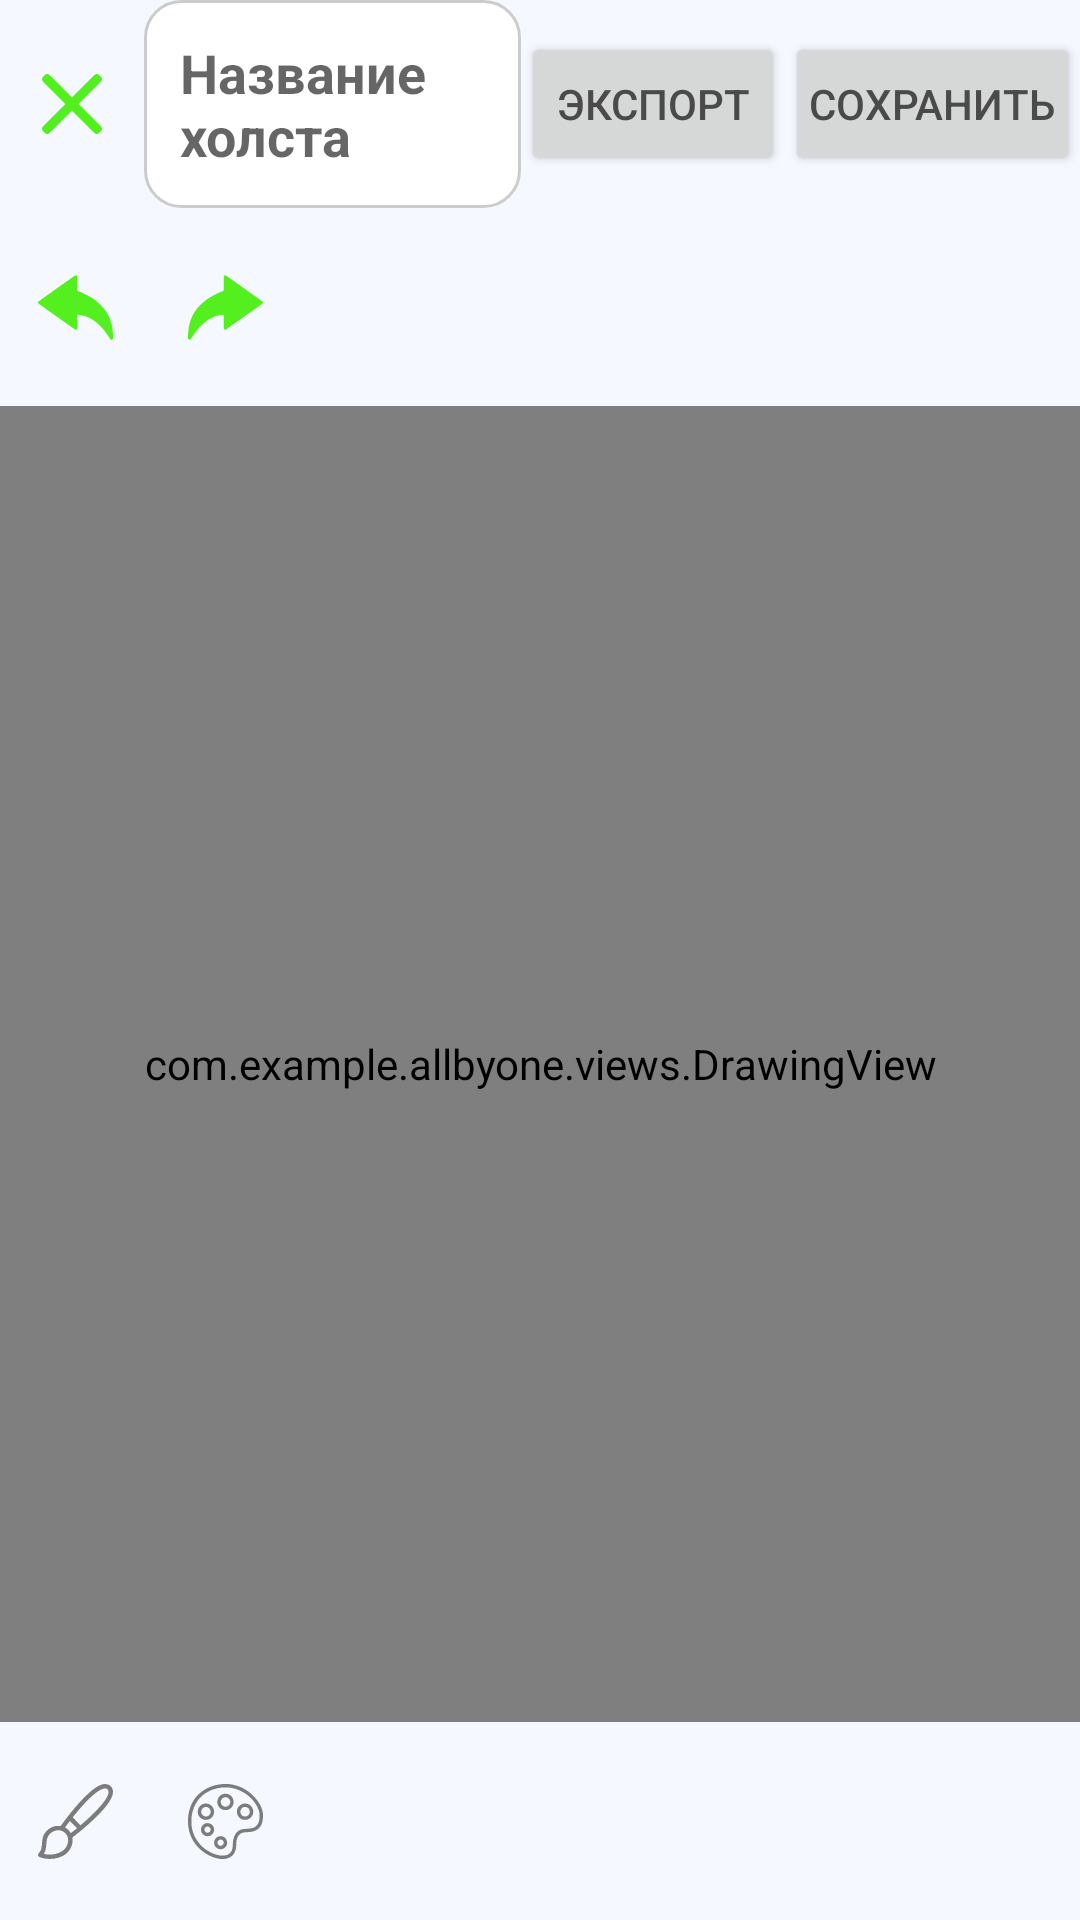

Icon click points for this 1080w x 1920h phone screenshot, format [x,y]:
Выбор цвета: [225,1821]
Кисть: [75,1821]
Отменить: [75,307]
Повторить: [225,307]
